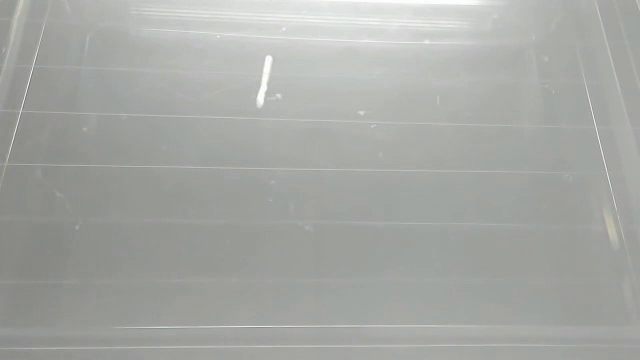alpha: (253, 53, 275, 113)
